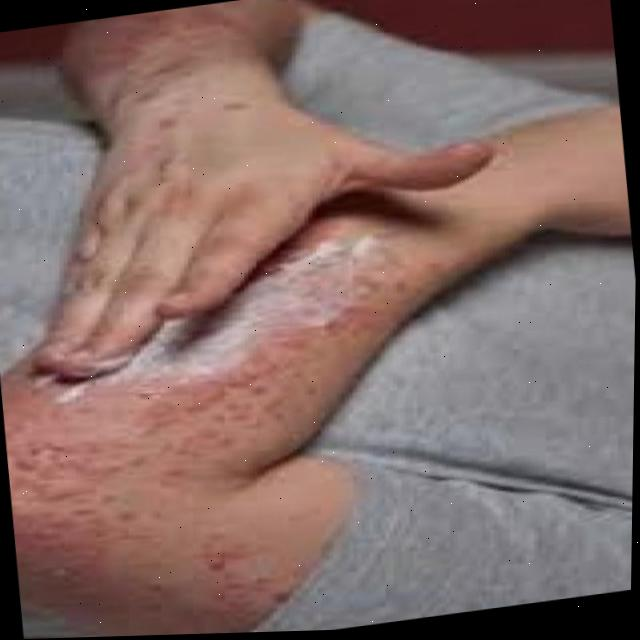Eczema: (0, 236, 438, 640), (86, 0, 263, 116)
